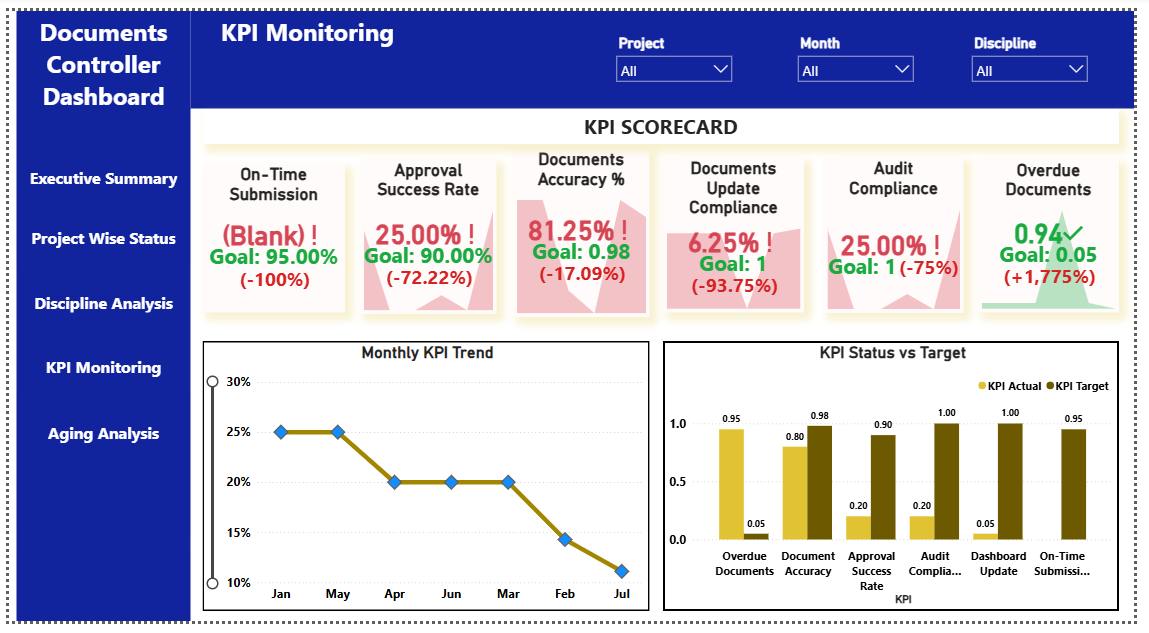

Layout of this report page (visuals, bound fields, positions):
{"tool":"powerbi","page":{"name":"KPI Monitoring","canvas":[1500,813],"ordinal":3},"visuals":[{"type":"group","id":"g1","title":"Group 1","box":[10,0,232,816],"z":0},{"type":"textbox","box":[10,0,232,816],"z":0,"group":"g1"},{"type":"textbox","box":[242,0,1258,130],"z":1000},{"type":"actionButton","box":[10,187.6,232,67.5],"z":1000,"group":"g1"},{"type":"slicer","fields":{"Values":["Document Register.Project Name"]},"box":[800,26,174.1,79.3],"z":2000},{"type":"actionButton","box":[10,268.2,232,67.5],"z":2000,"group":"g1"},{"type":"slicer","fields":{"Values":["Document Register.Status"]},"box":[1042,26,174.1,79.3],"z":3000},{"type":"actionButton","box":[10,354.5,232,67.5],"z":3000,"group":"g1"},{"type":"slicer","fields":{"Values":["Document Register.Discipline"]},"box":[1274,26,174.1,79.3],"z":4000},{"type":"actionButton","box":[10,440.8,232,67.5],"z":4000,"group":"g1"},{"type":"kpi","title":"On-Time Submission","fields":{"Indicator":["Document Register.On-Time Submission %"],"Goal":["Document Register.On-Time Target"],"TrendLine":["Document Register.Discipline"]},"box":[258,204,190,198],"z":5000},{"type":"actionButton","box":[10,527.1,232,67.5],"z":5000,"group":"g1"},{"type":"kpi","title":"Approval Success Rate","fields":{"Indicator":["Document Register.Approval Success Rate"],"Goal":["Document Register.Approval Target"],"TrendLine":["Document Register.Discipline"]},"box":[468,198,182,206],"z":6000},{"type":"kpi","title":"Documents Accuracy %","fields":{"Goal":["Document Register.Document Accuracy Target"],"TrendLine":["Document Register.Discipline"],"Indicator":["Document Register.Document Accuracy"]},"box":[672,184,182,224],"z":7000},{"type":"kpi","title":"Documents Update Compliance","fields":{"TrendLine":["Document Register.Discipline"],"Goal":["Document Register.Documents Update Target"],"Indicator":["Document Register.Documents Update Compliance"]},"box":[872,196,188,206],"z":8000},{"type":"kpi","title":"   Audit      Compliance","fields":{"TrendLine":["Document Register.Discipline"],"Indicator":["Document Register.Audit Compliance"],"Goal":["Document Register.Audit Target"]},"box":[1087,195.7,187,206.5],"z":9000},{"type":"kpi","title":"Overdue Documents","fields":{"TrendLine":["Document Register.Discipline"],"Indicator":["Document Register.Overdue Documents %"],"Goal":["Document Register.Overdue Target"]},"box":[1292,198,188,204],"z":10000},{"type":"textbox","box":[258,130,1222,48],"z":11000},{"type":"lineChart","title":"Monthly KPI Trend","fields":{"Category":["Document Register.Submission Month"],"Y":["Document Register.Approval Success Rate"]},"box":[258,440,596,360],"z":12000},{"type":"clusteredColumnChart","title":"KPI Status vs Target","fields":{"Category":["KPI List.KPI"],"Y":["Document Register.KPI Actual","Document Register.KPI Target"]},"box":[872,440,608,360],"z":13000}]}

Visuals, with their boxes in screenshot pixels (x1, y1, x2, y2), scaled from the page's 1500x813 canvas onto the 1149x633 screenshot:
"Group 1" group: BBox(8, 0, 185, 632)
textbox: BBox(8, 0, 185, 632)
textbox: BBox(185, 0, 1148, 101)
actionButton: BBox(8, 146, 185, 199)
slicer - Document Register.Project Name: BBox(613, 20, 746, 82)
actionButton: BBox(8, 209, 185, 261)
slicer - Document Register.Status: BBox(798, 20, 932, 82)
actionButton: BBox(8, 276, 185, 329)
slicer - Document Register.Discipline: BBox(976, 20, 1109, 82)
actionButton: BBox(8, 343, 185, 396)
"On-Time Submission" kpi: BBox(198, 159, 343, 313)
actionButton: BBox(8, 410, 185, 463)
"Approval Success Rate" kpi: BBox(358, 154, 498, 315)
"Documents Accuracy %" kpi: BBox(515, 143, 654, 318)
"Documents Update Compliance" kpi: BBox(668, 153, 812, 313)
"   Audit      Compliance" kpi: BBox(833, 152, 976, 313)
"Overdue Documents" kpi: BBox(990, 154, 1134, 313)
textbox: BBox(198, 101, 1134, 139)
"Monthly KPI Trend" lineChart: BBox(198, 343, 654, 623)
"KPI Status vs Target" clusteredColumnChart: BBox(668, 343, 1134, 623)
